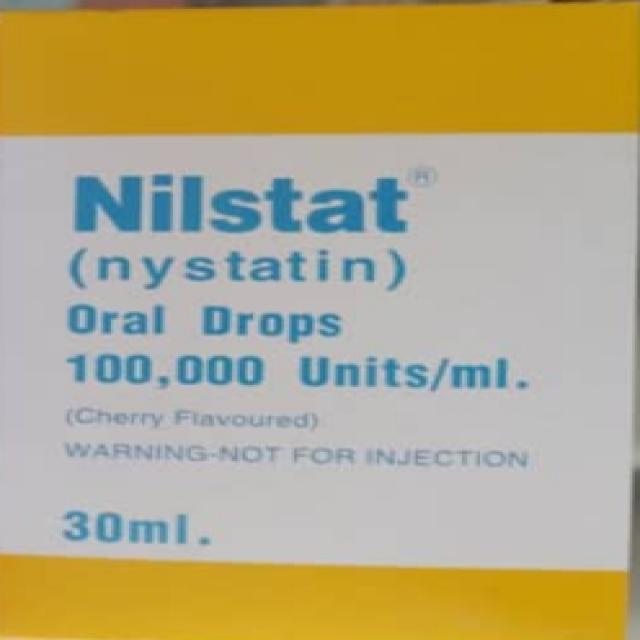drug-name: (72, 168, 409, 238)
